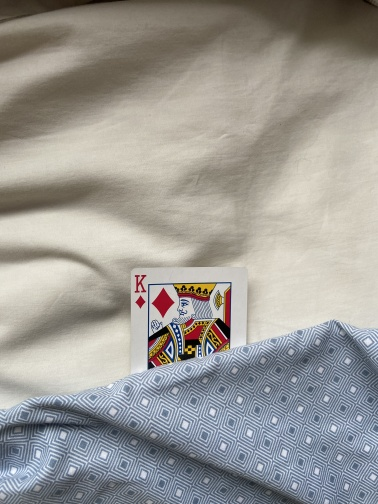king: (129, 266, 249, 448)
